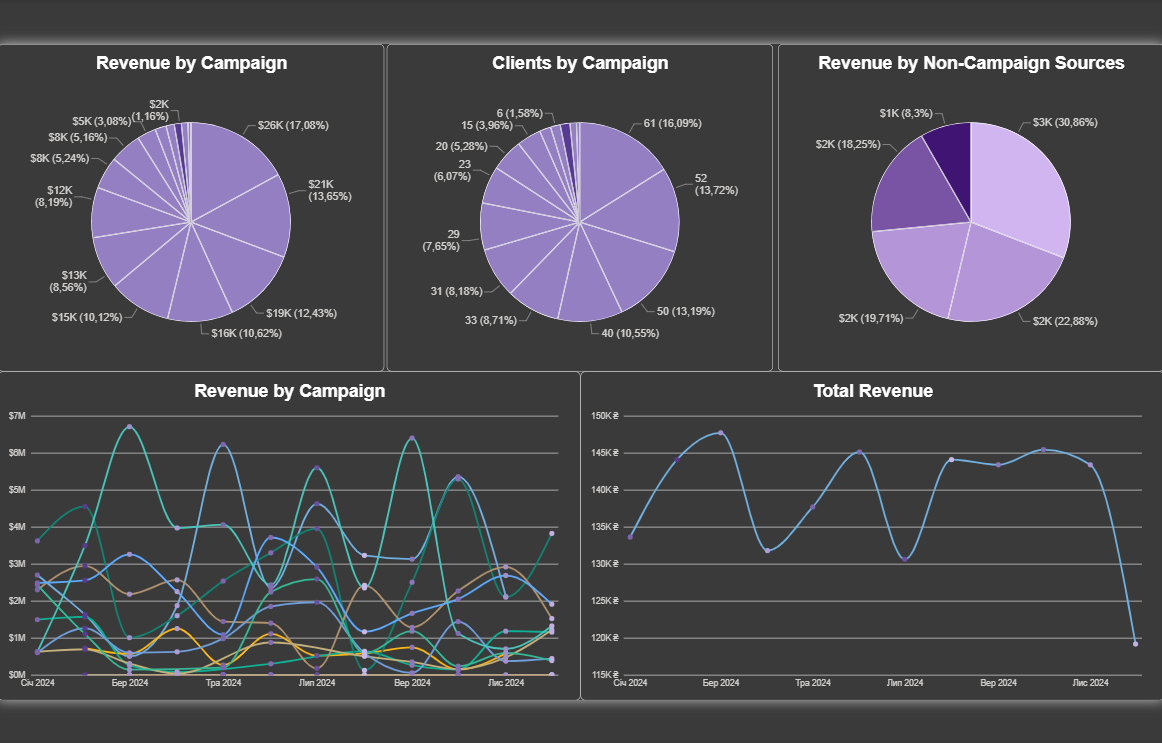

The dashboard page shown, as its layout file describes it:
{"tool":"powerbi","page":{"name":"Global Overview","canvas":[1920,1080],"ordinal":0},"visuals":[{"type":"pieChart","title":"Revenue by Campaign","fields":{"Category":["camapign_summary.campaign"],"Y":["Sum(camapign_summary.crm_revenue)"]},"box":[0,0,636,539.3],"z":0},{"type":"pieChart","title":"Revenue by Non-Campaign Sources","fields":{"Category":["camapign_summary.campaign"],"Y":["Sum(camapign_summary.crm_revenue)"]},"box":[1284.4,0,636,539.3],"z":1000},{"type":"lineChart","title":"Revenue by Campaign","fields":{"Category":["marketing_campaign_performance.conversion_date.Variation.Date Hierarchy.Year","marketing_campaign_performance.conversion_date.Variation.Date Hierarchy.Quarter","marketing_campaign_performance.conversion_date.Variation.Date Hierarchy.Month","marketing_campaign_performance.conversion_date.Variation.Date Hierarchy.Day"],"Series":["camapign_summary.campaign"],"Y":["Sum(marketing_campaign_performance.revenue)"]},"box":[0,539.3,959.2,541.3],"z":2000},{"type":"lineChart","title":"Total Revenue","fields":{"Category":["marketing_campaign_performance.conversion_date.Variation.Date Hierarchy.Year","marketing_campaign_performance.conversion_date.Variation.Date Hierarchy.Quarter","marketing_campaign_performance.conversion_date.Variation.Date Hierarchy.Month","marketing_campaign_performance.conversion_date.Variation.Date Hierarchy.Day"],"Y":["_Measures.Total Revenue"]},"box":[959.2,539.3,961.2,541.3],"z":3000},{"type":"pieChart","title":"Clients by Campaign","fields":{"Category":["camapign_summary.campaign"],"Y":["Sum(camapign_summary.crm_conversion_count)"]},"box":[640.1,0,636,539.3],"z":4000}]}

Visuals, with their boxes on the page's 1920x1080 design canvas (x1, y1, x2, y2). These are canvas units, not pixel positions in the 1162x743 screenshot, which may show the page scaled, cropped or inside an application window:
"Revenue by Campaign" pieChart: 0 0 636 539
"Revenue by Non-Campaign Sources" pieChart: 1284 0 1920 539
"Revenue by Campaign" lineChart: 0 539 959 1081
"Total Revenue" lineChart: 959 539 1920 1081
"Clients by Campaign" pieChart: 640 0 1276 539
